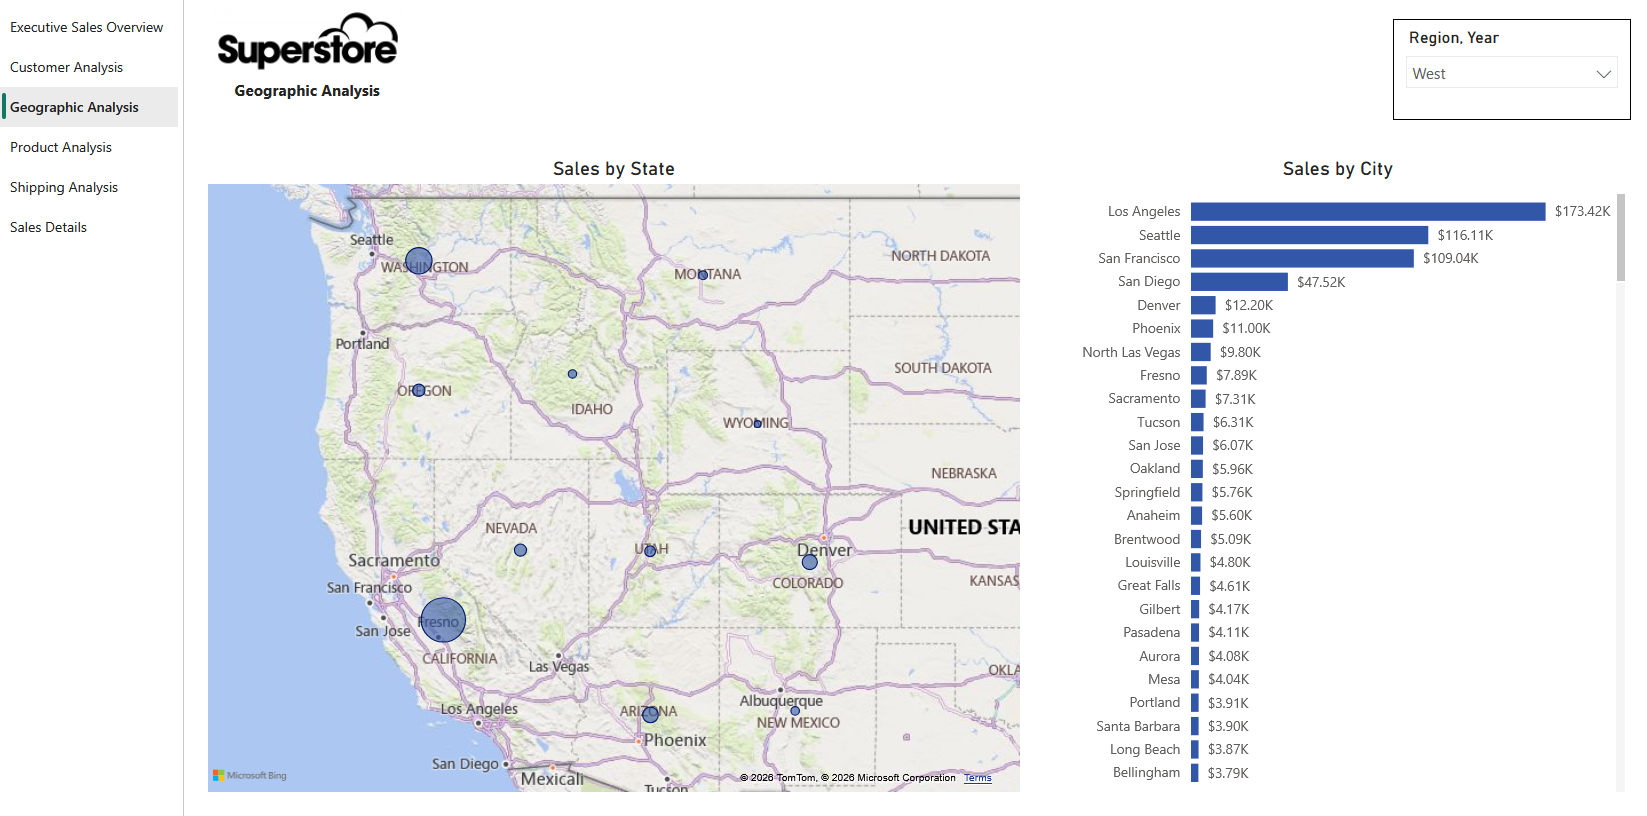

The dashboard page shown, as its layout file describes it:
{"tool":"powerbi","page":{"name":"Geographic Analysis","canvas":[1280,720],"ordinal":2},"visuals":[{"type":"image","box":[24,16,168,88],"z":0},{"type":"barChart","fields":{"Category":["Super Store Dataset.City"],"Y":["Sum(Super Store Dataset.Sales)"]},"box":[752,144,512,560],"z":1000},{"type":"slicer","title":"Filter by","fields":{"Values":["Super Store Dataset.Region"]},"box":[1040,16,208,96],"z":2000},{"type":"textbox","box":[16,96,192,32],"z":3000},{"type":"map","fields":{"Category":["Super Store Dataset.State"],"Size":["Sum(Super Store Dataset.Sales)"]},"box":[16,144,720,560],"z":4000}]}

Visuals, with their boxes on the page's 1280x720 design canvas (x1, y1, x2, y2). These are canvas units, not pixel positions in the 1647x816 screenshot, which may show the page scaled, cropped or inside an application window:
image: x1=24 y1=16 x2=192 y2=104
barChart - Super Store Dataset.City x Sum(Super Store Dataset.Sales): x1=752 y1=144 x2=1264 y2=704
"Filter by" slicer: x1=1040 y1=16 x2=1248 y2=112
textbox: x1=16 y1=96 x2=208 y2=128
map - Super Store Dataset.State x Sum(Super Store Dataset.Sales): x1=16 y1=144 x2=736 y2=704
